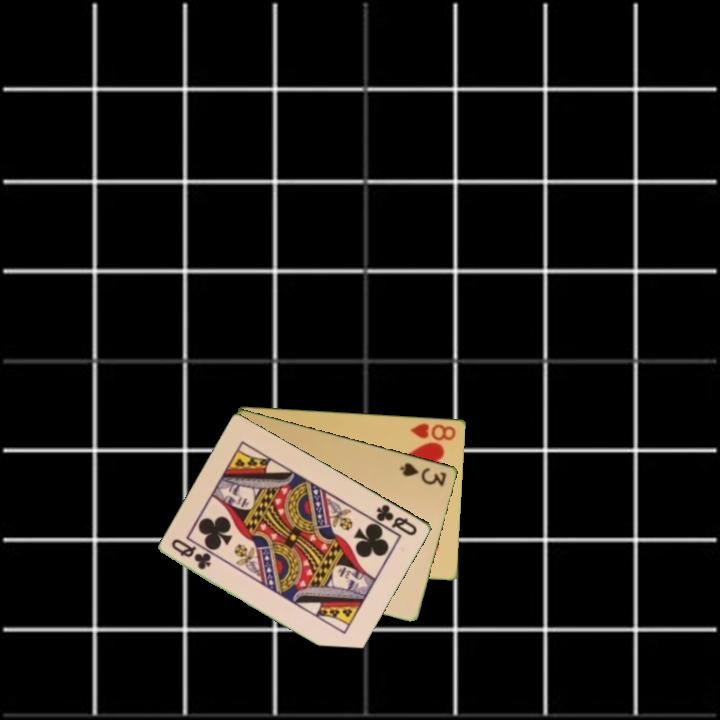3s: (397, 459, 450, 489)
8h: (407, 420, 459, 443)
Qc: (373, 501, 421, 539), (168, 535, 215, 573)
